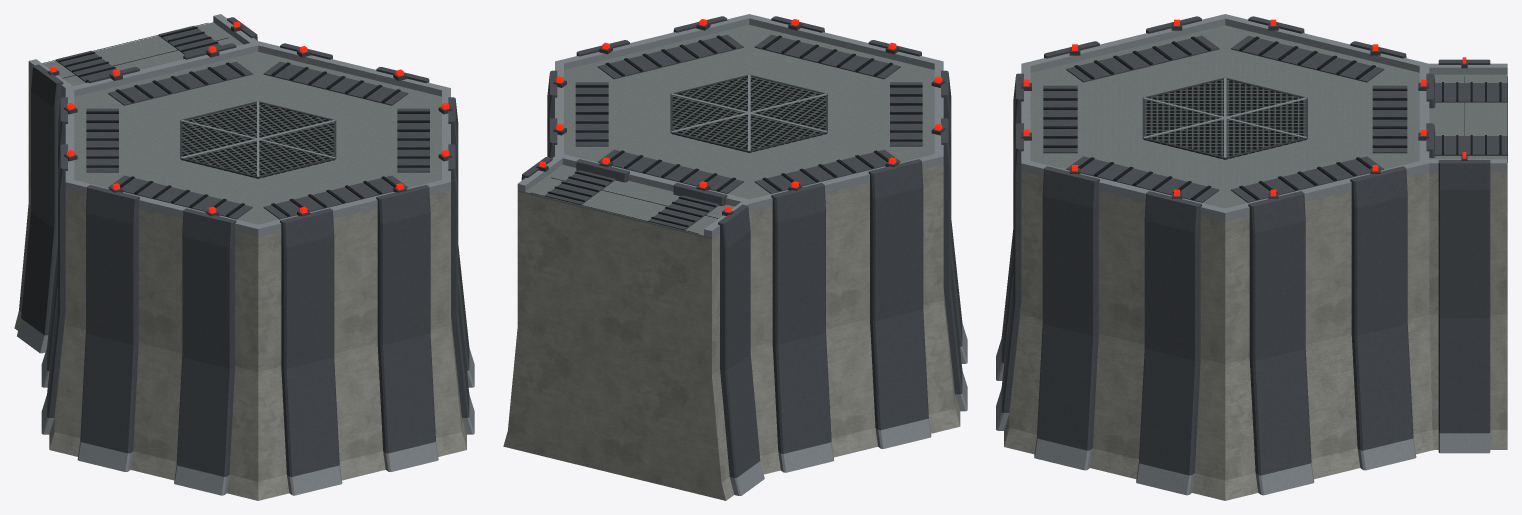
Rendered from pier.glb.
3 views of the same model, side by side, from view 1: azimuth 30°, elevation 25°; view 2: azimuth 150°, elevation 25°; view 3: azimuth 270°, elevation 25° (orthographic). The views are drawn at different scales.
Parts seen in each view (by area): view 1: pier-lod0-roof0, pier-lod0-base0, pier-lod0-floor0, pier-lod0-roof0-link-n, pier-lod0-base0-link-n, pier-lod0-floor0-link-n; view 2: pier-lod0-roof0, pier-lod0-base0-link-n, pier-lod0-floor0-link-n, pier-lod0-base0, pier-lod0-floor0, pier-lod0-roof0-link-n; view 3: pier-lod0-roof0, pier-lod0-base0, pier-lod0-floor0, pier-lod0-base0-link-n, pier-lod0-floor0-link-n, pier-lod0-roof0-link-n.
Boxes of the visible parts, x1,y1,x2,y2 form: pier-lod0-roof0: (58,41,458,251); pier-lod0-base0: (41,246,474,500); pier-lod0-floor0: (58,145,458,371); pier-lod0-roof0-link-n: (28,14,261,107); pier-lod0-base0-link-n: (14,204,57,353); pier-lod0-floor0-link-n: (28,83,59,228); pier-lod0-roof0: (547,14,951,225); pier-lod0-base0-link-n: (503,328,764,500); pier-lod0-floor0-link-n: (517,206,750,375); pier-lod0-base0: (750,220,967,474); pier-lod0-floor0: (547,119,951,347); pier-lod0-roof0-link-n: (517,153,750,253); pier-lod0-roof0: (1013,14,1435,236); pier-lod0-base0: (996,230,1433,500); pier-lod0-floor0: (1013,124,1429,364); pier-lod0-base0-link-n: (1429,314,1507,453); pier-lod0-floor0-link-n: (1429,186,1507,317); pier-lod0-roof0-link-n: (1421,57,1507,189).
Size of what is drawn, in the model's own units: 65.13 by 40.38 by 65.22.
8 materials, 8 textured.
